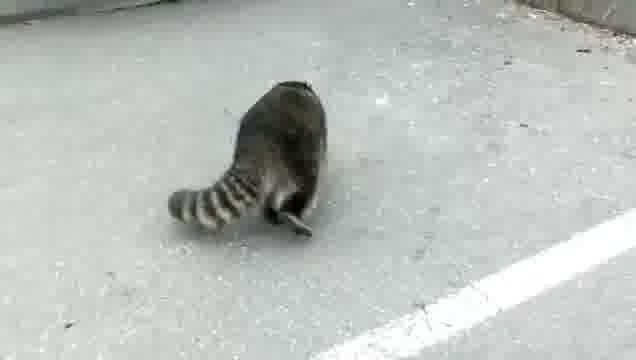raccoon: (169, 79, 327, 240)
